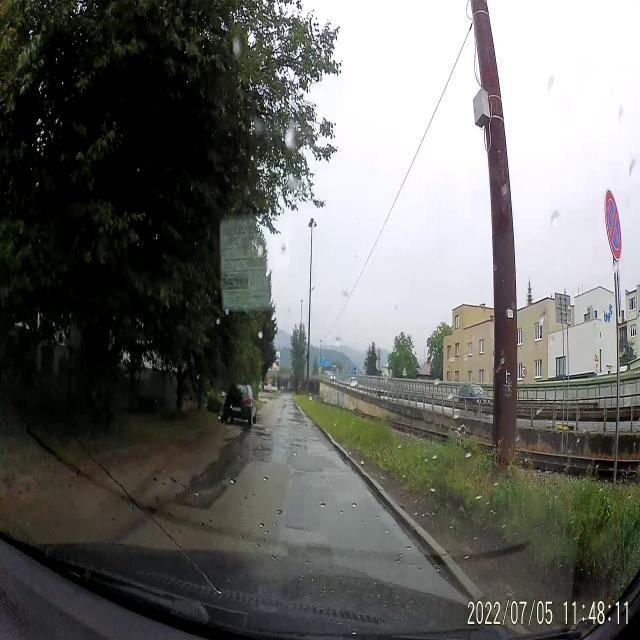Pothole: (256, 428, 272, 442)
